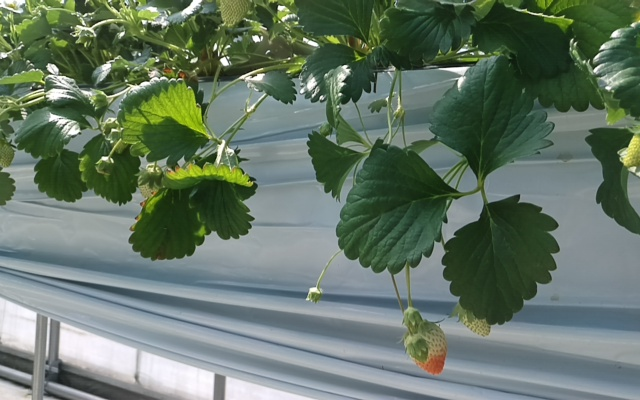GreenStrawberry: (403, 316, 450, 376), (455, 303, 491, 338), (216, 1, 253, 31), (136, 165, 163, 201), (620, 129, 640, 173), (1, 143, 16, 168)
